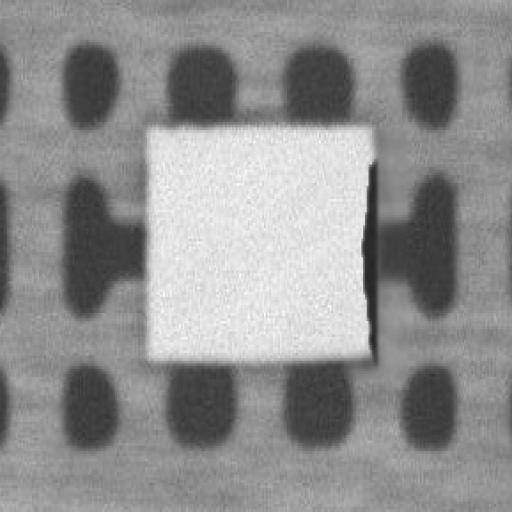DIE_BROKEN: (356, 151, 376, 361)
